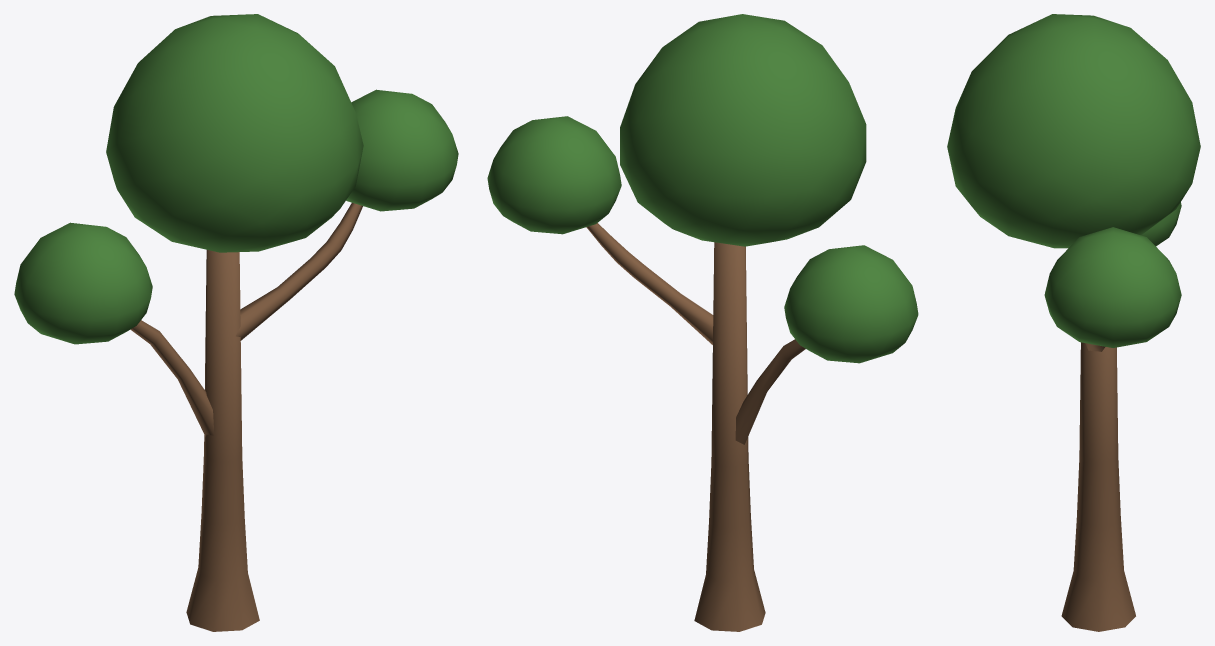
The model's file is SM_tree_standard_01.fbx.
3 views of the same model, side by side, from view 1: azimuth 30°, elevation 25°; view 2: azimuth 150°, elevation 25°; view 3: azimuth 270°, elevation 25° (orthographic). The views are drawn at different scales.
Parts seen in each view (by area): view 1: Cylinder009; view 2: Cylinder009; view 3: Cylinder009.
Part boxes in pixels (bbox=[...]): Cylinder009: bbox=[14, 14, 458, 631]; Cylinder009: bbox=[487, 14, 918, 631]; Cylinder009: bbox=[947, 14, 1200, 631].
Size of the model in its own units: 141 by 190 by 73.72.
